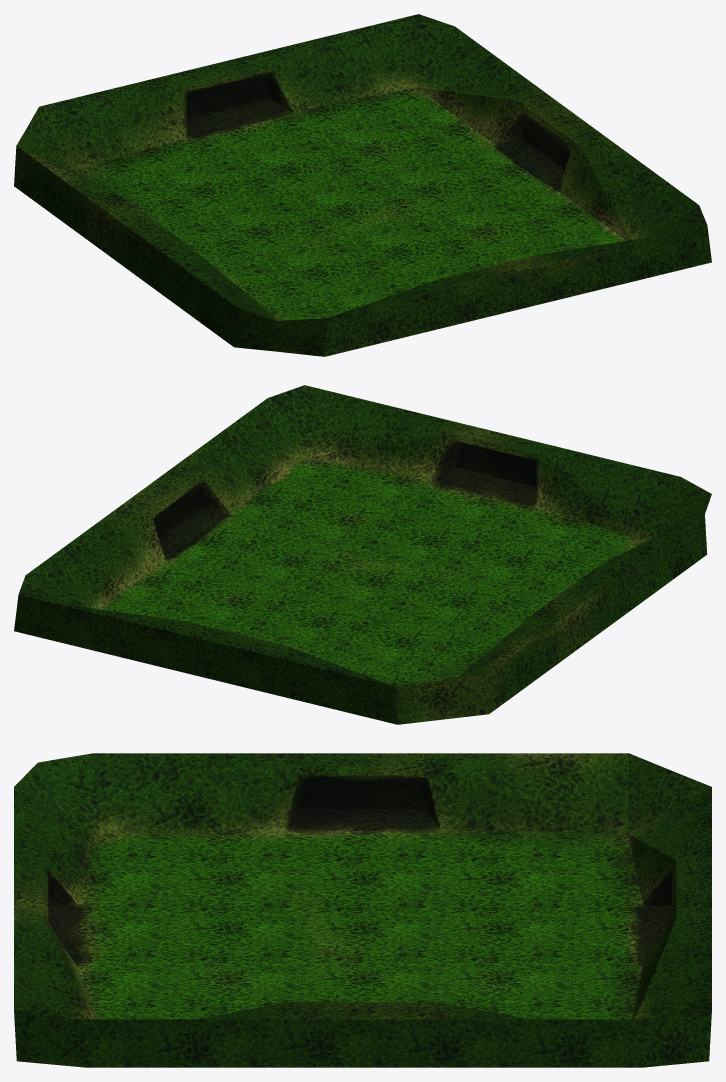
The model's file is GrassFinal.FBX.
3 views of the same model, one above another, from view 1: azimuth 30°, elevation 25°; view 2: azimuth 150°, elevation 25°; view 3: azimuth 270°, elevation 25° (orthographic). The views are drawn at different scales.
Visible parts, largest first — view 1: Plane001; view 2: Plane001; view 3: Plane001.
Part boxes in pixels (left/top/right/bottom): Plane001: left=14, top=14, right=711, bottom=356; Plane001: left=14, top=385, right=711, bottom=724; Plane001: left=14, top=753, right=711, bottom=1067.
Bounding box in the file's own units: 529 × 43.39 × 580.
Materials: 1 (1 with a texture image).
